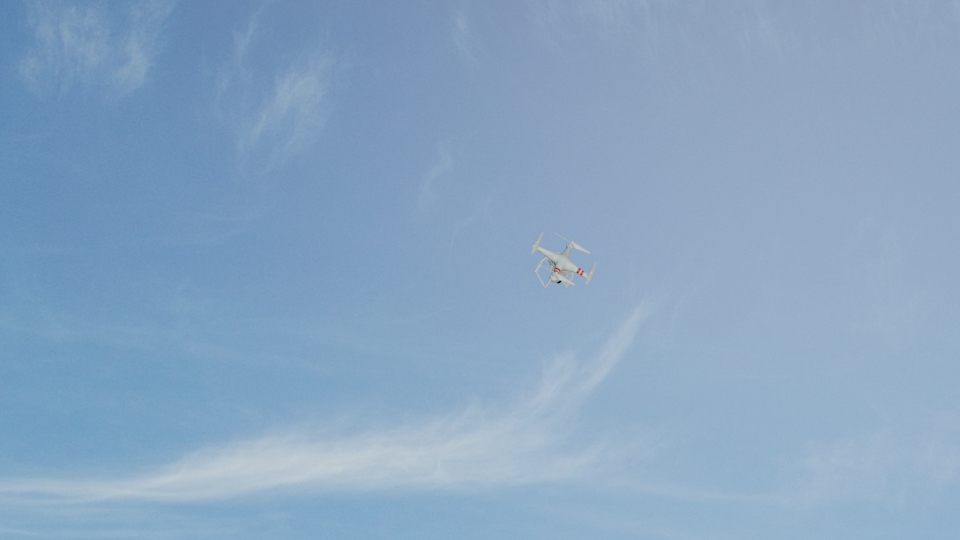drone: (531, 227, 598, 287)
